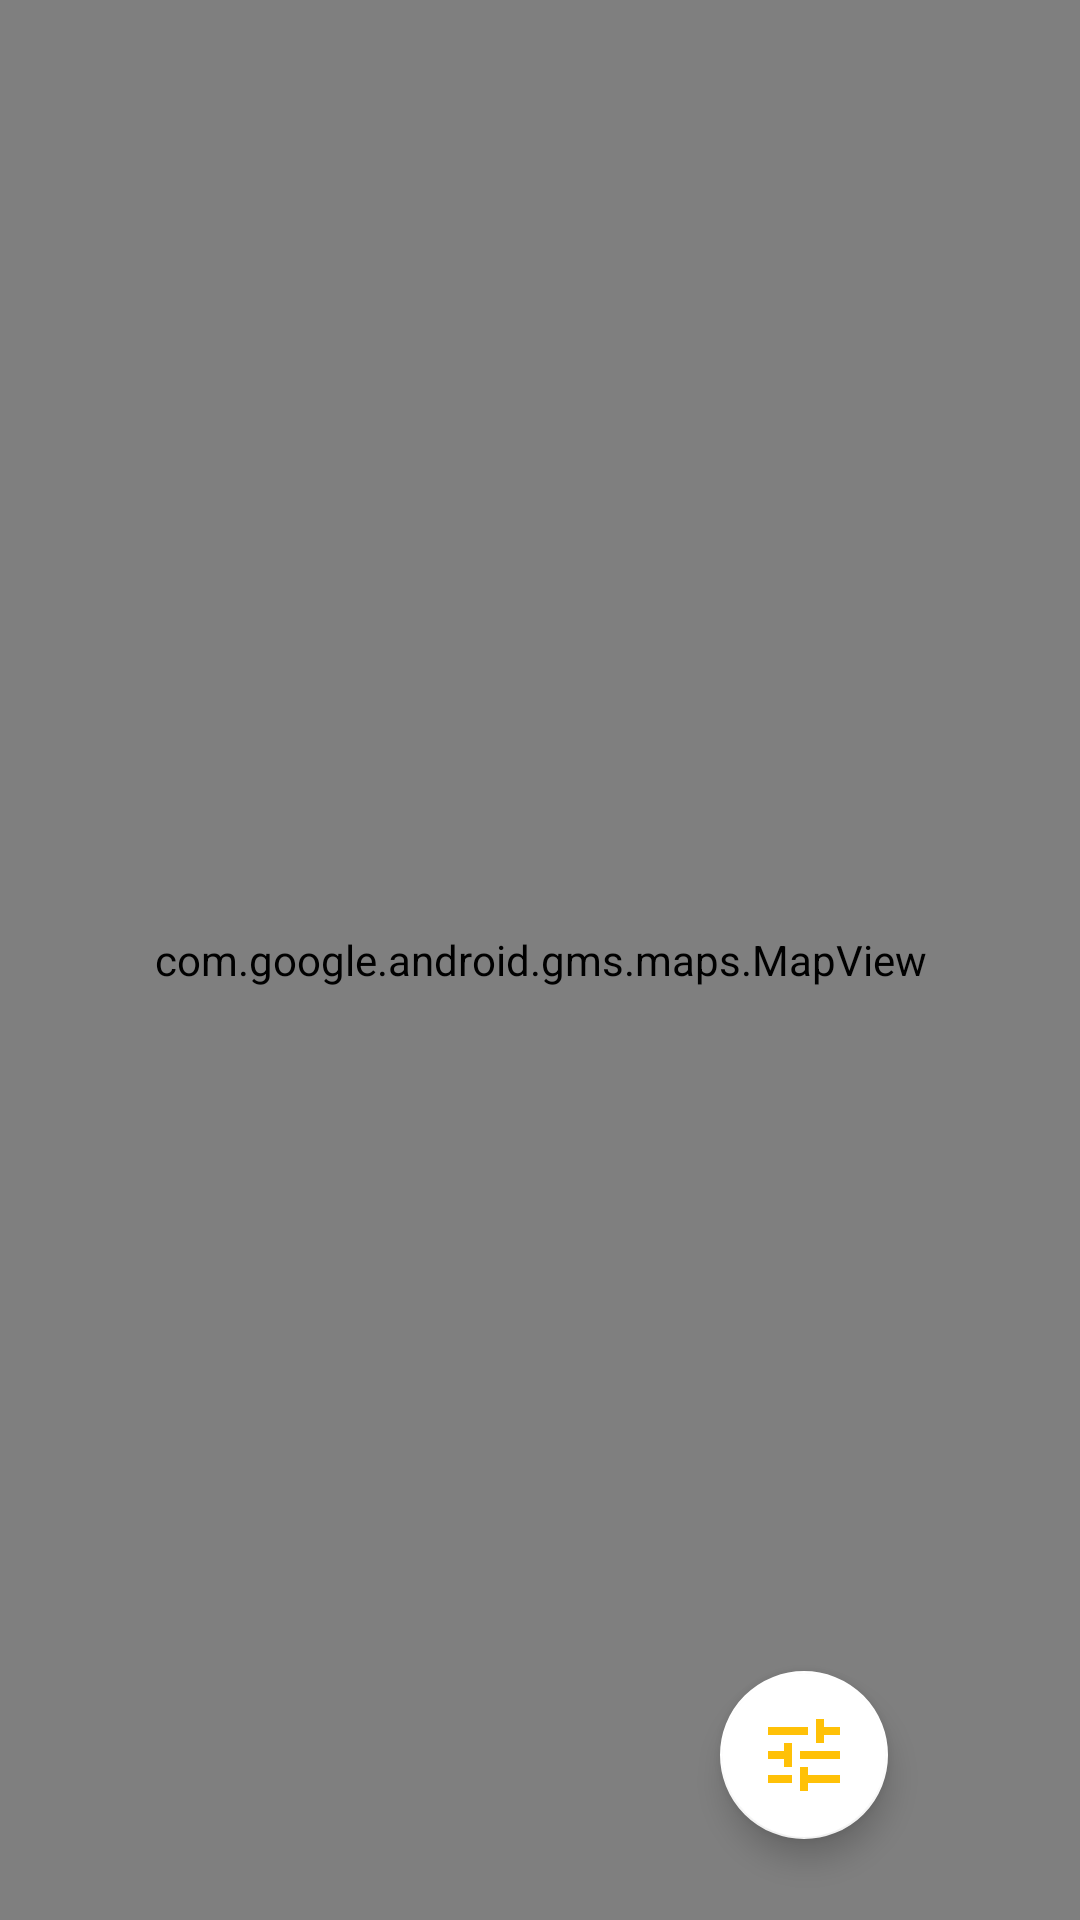

Where icons sit on this 1080px×1920px app screen, as (x1, y1, x2, y2):
tune: (720, 1671, 888, 1839)
